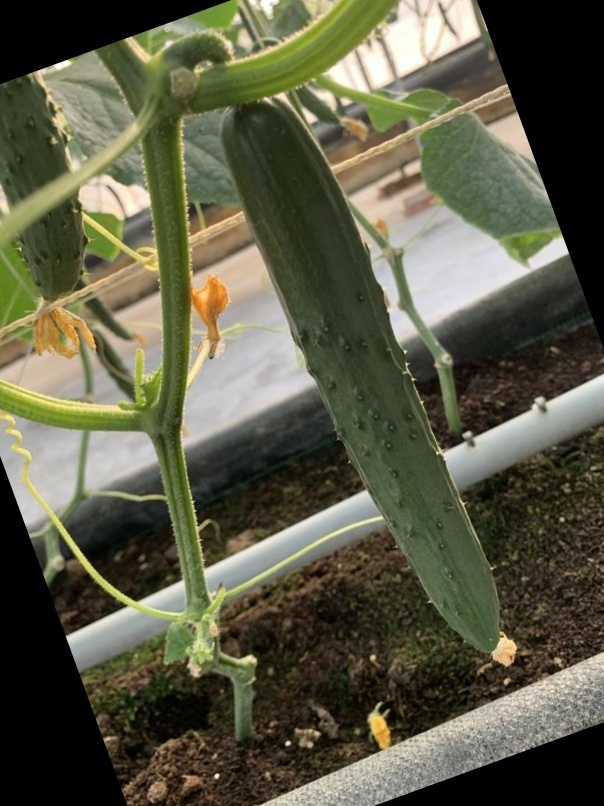mature: (216, 100, 513, 656)
